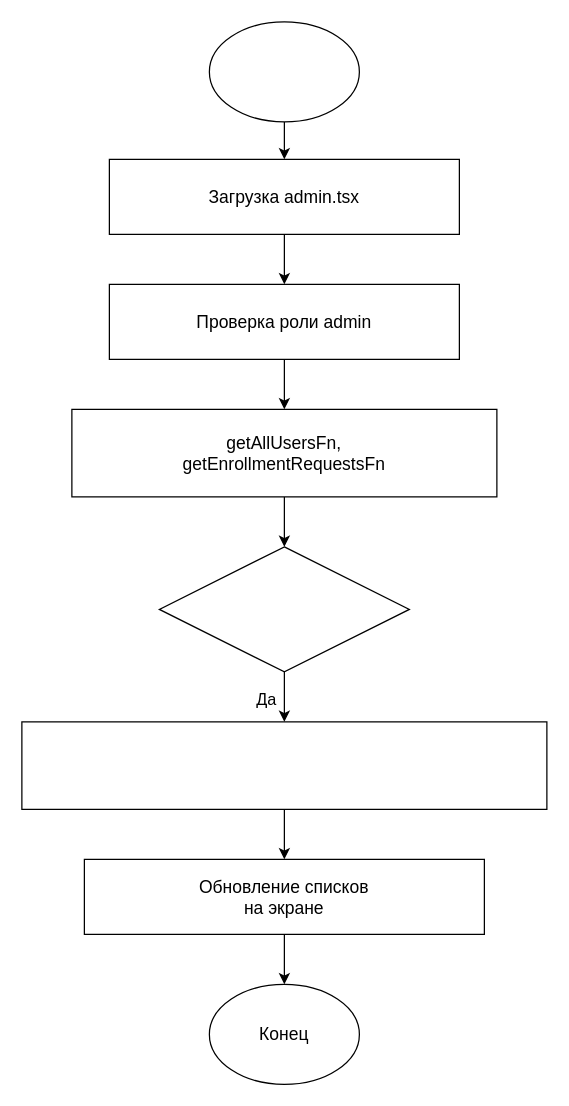
This 569x1106 diagram has some shape labels left out. Here are the shapes that lost their labels. From the top down, the centre of each, then its label:
(283,71): Начало
(283,609): Действие администратора?
(284,765): processEnrollmentRequestFn / promoteUserToTeacherFn / deleteStudentFn
